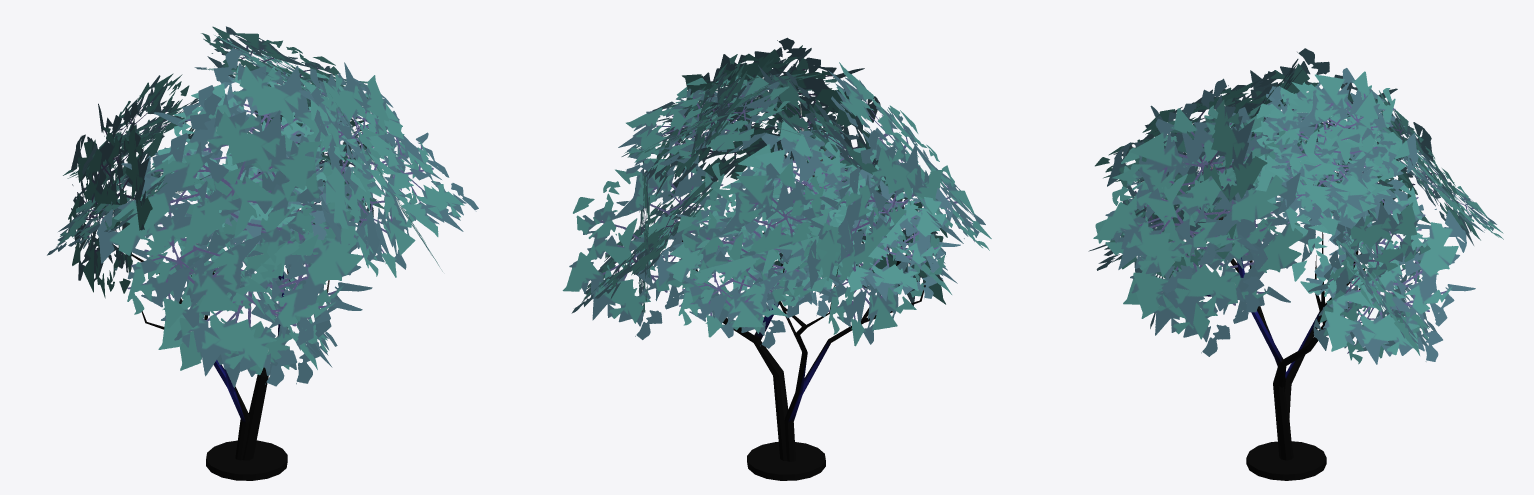
Rendered from bg_common_streetobject_05.fbx.
3 views of the same model, side by side, from view 1: azimuth 30°, elevation 25°; view 2: azimuth 150°, elevation 25°; view 3: azimuth 270°, elevation 25° (orthographic). The views are drawn at different scales.
Visible parts, largest first — view 1: bg_common_streetobject_05; view 2: bg_common_streetobject_05; view 3: bg_common_streetobject_05.
Part boxes in pixels (<box>): bg_common_streetobject_05: <box>47,26,478,480</box>; bg_common_streetobject_05: <box>562,37,991,480</box>; bg_common_streetobject_05: <box>1088,48,1503,480</box>.
Size of the model in its own units: 1679 by 1708 by 1716.
